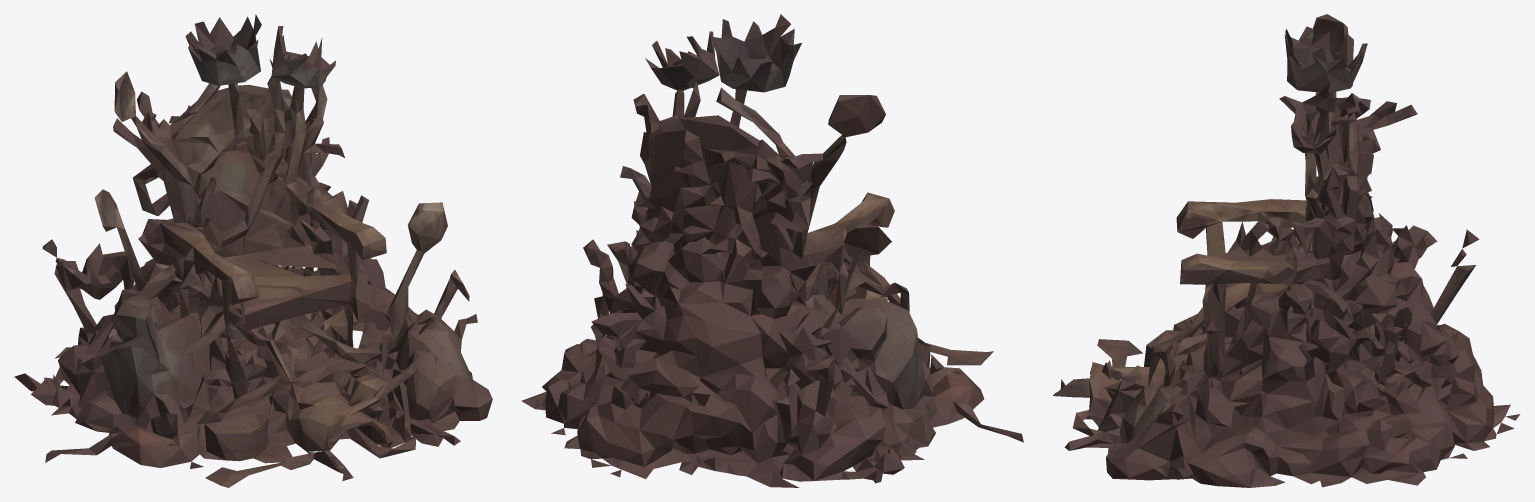
File: rat_throne.glb
3 views of the same model, side by side, from view 1: azimuth 30°, elevation 25°; view 2: azimuth 150°, elevation 25°; view 3: azimuth 270°, elevation 25° (orthographic). The views are drawn at different scales.
Visible parts, largest first — view 1: geometry_0; view 2: geometry_0; view 3: geometry_0.
Part boxes in pixels (<box>): geometry_0: <box>14,14,492,487</box>; geometry_0: <box>521,14,1023,487</box>; geometry_0: <box>1053,14,1520,487</box>.
Bounding box in the file's own units: 2.6 × 2.27 × 2.59.
1 material, 1 textured.
